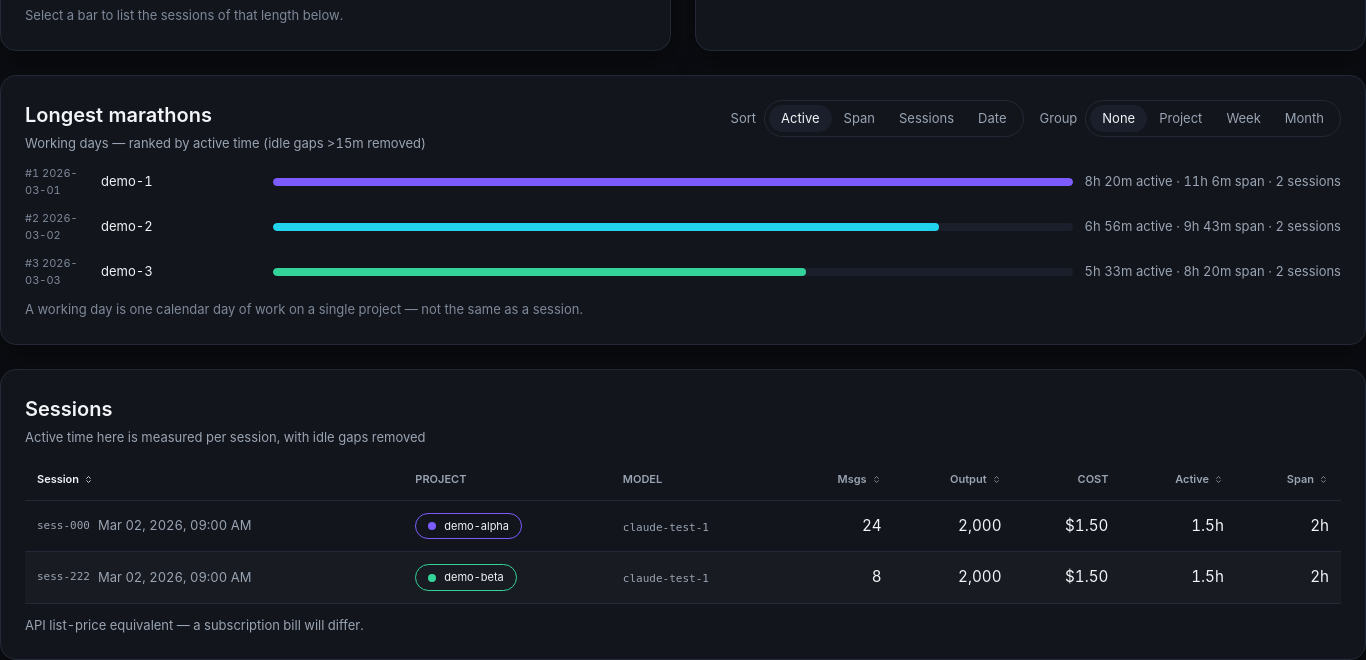
Scenario: §6.5 — the session drawer gets the whole block, not just the cost line › ⚠️ no longer captions a bold $ with "all records costed" alone
(page scrolled)
Click the row with test id "sessions-table-row" that starts with "sess-000" at [683, 526], box [25,501,1341,552]
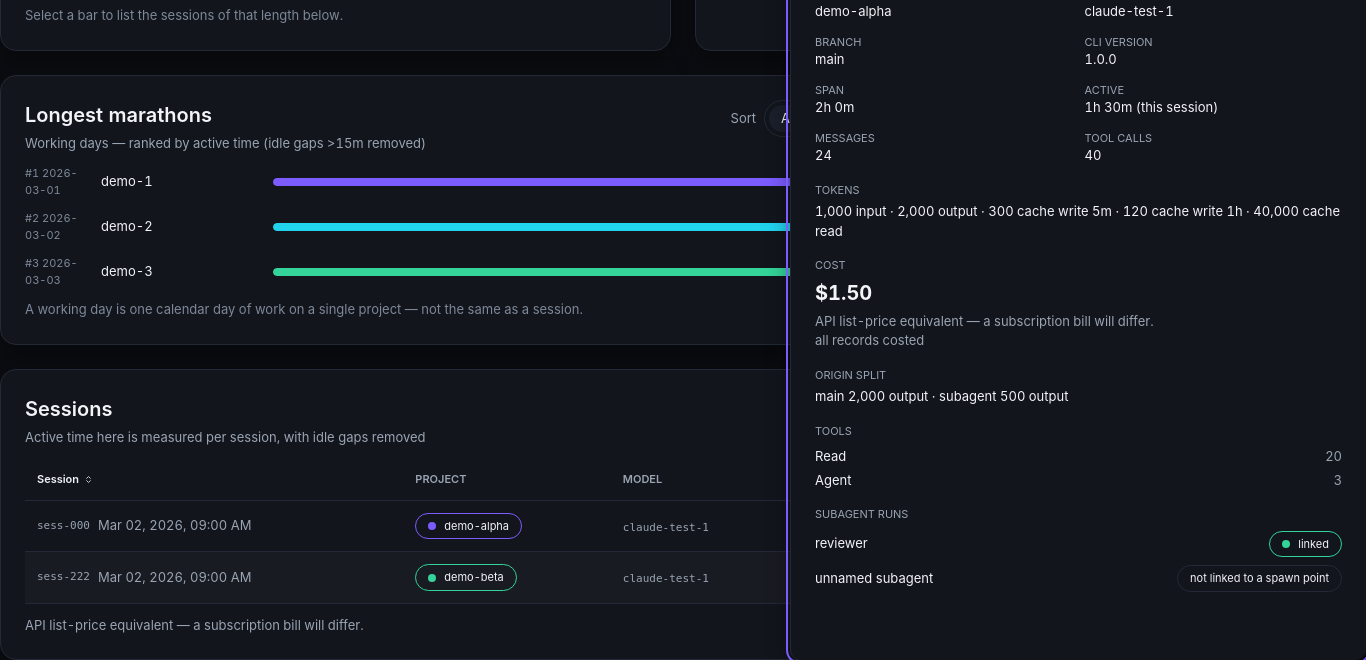
Check: the text with test id "list-price-disclosure" below "1,000" is shown, box [815,312,1154,328]
Check: the text "all records costed" is shown, box [815,332,924,348]
